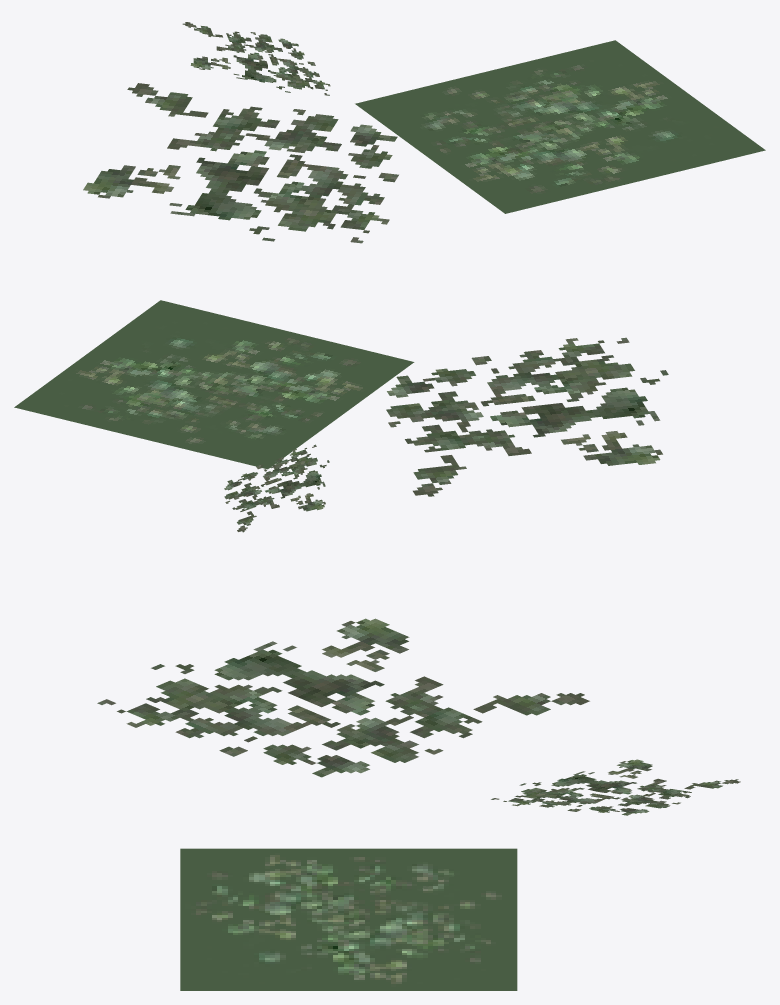
3 views of the same model, one above another, from view 1: azimuth 30°, elevation 25°; view 2: azimuth 150°, elevation 25°; view 3: azimuth 270°, elevation 25° (orthographic). The views are drawn at different scales.
Visible parts, largest first — view 1: wj29; view 2: wj29; view 3: wj29.
Part boxes in pixels (x1,y1,x2,y2): wj29: (83, 22, 765, 243); wj29: (14, 300, 668, 532); wj29: (97, 618, 740, 990).
Bounding box in the file's own units: 204 × 11.87 × 173.
